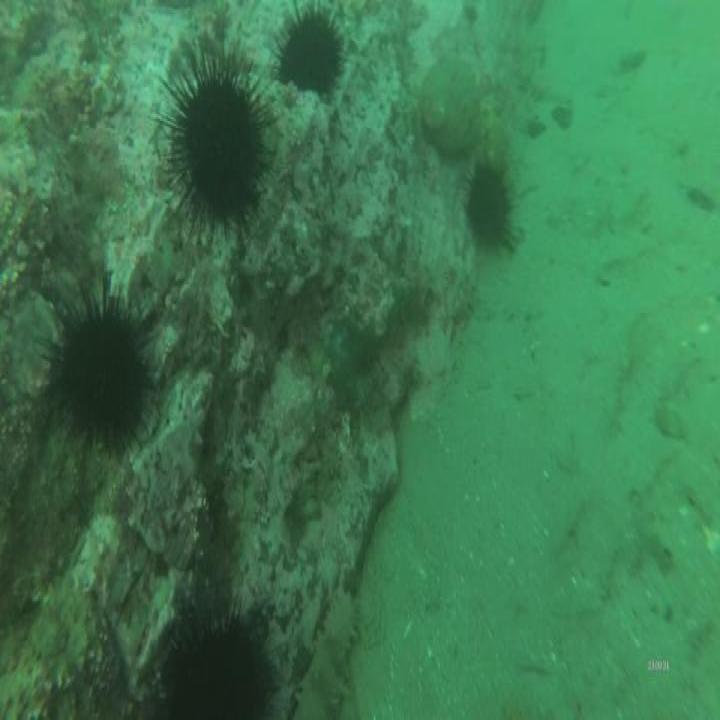echinus: (182, 80, 264, 220), (61, 309, 145, 441), (164, 620, 269, 720), (280, 11, 344, 87), (469, 163, 510, 250)
